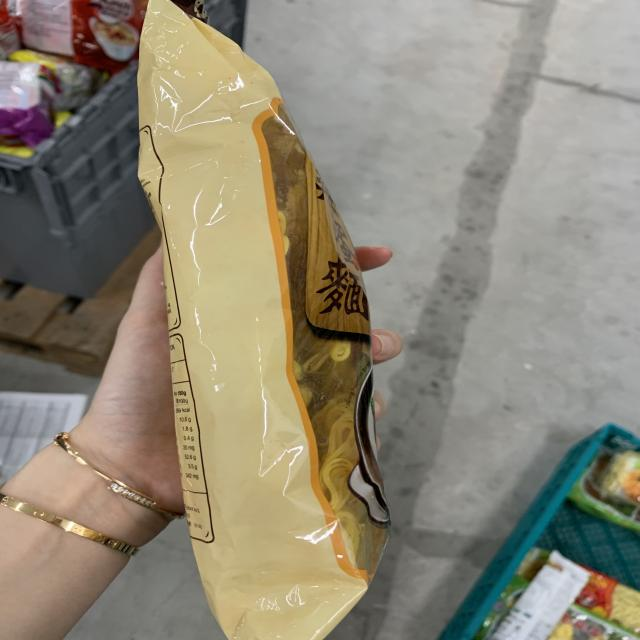object_name: (141, 21, 366, 617)
